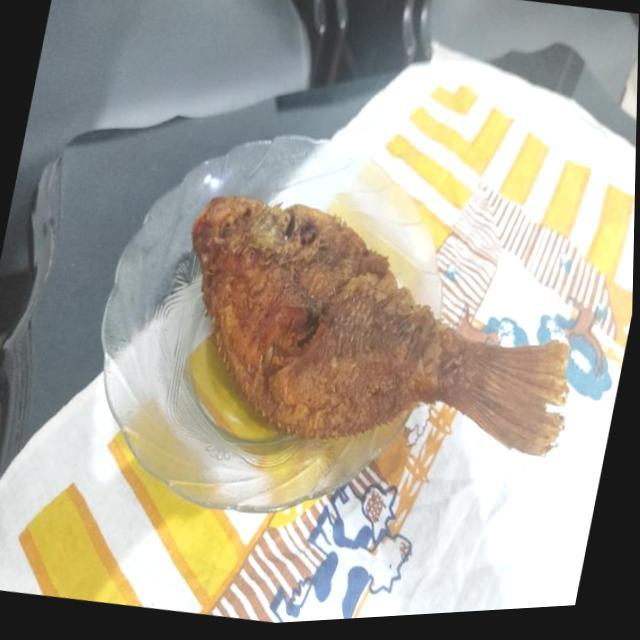ikan_mujair: (192, 196, 566, 454)
